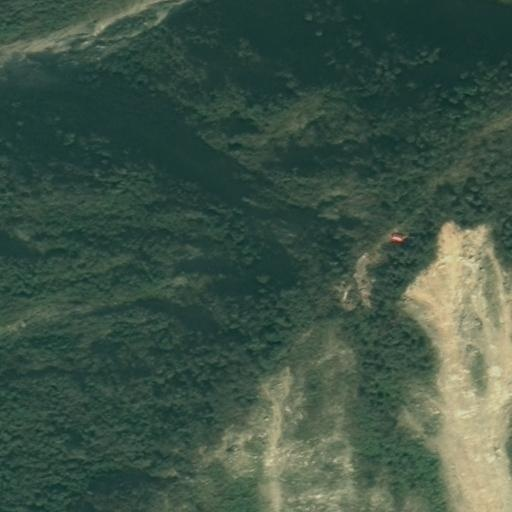landslide: (400, 217, 512, 512)
